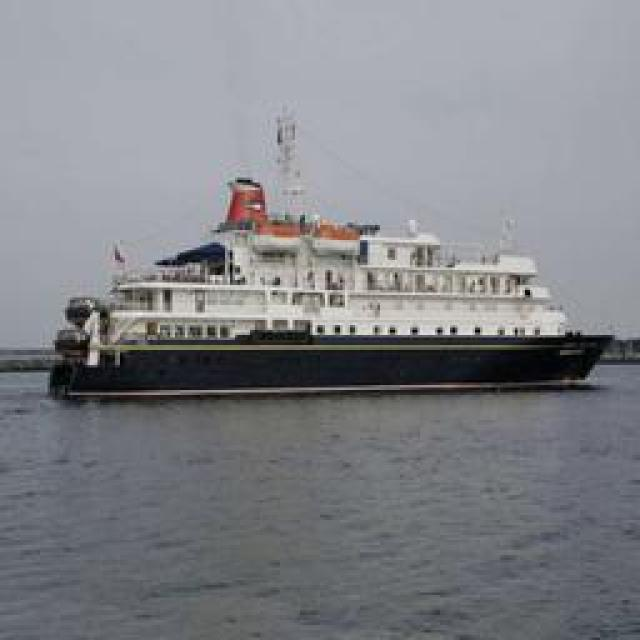Ship: (63, 127, 601, 390)
